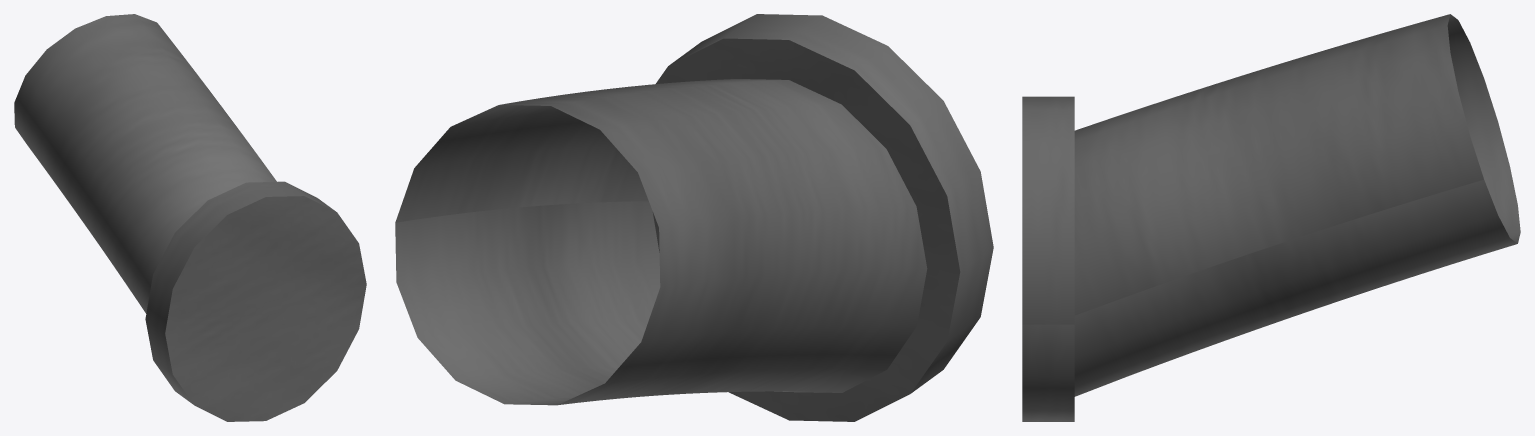
Rendered from mastarmcurve_5x1_c0.obj.
3 views of the same model, side by side, from view 1: azimuth 30°, elevation 25°; view 2: azimuth 150°, elevation 25°; view 3: azimuth 270°, elevation 25° (orthographic). The views are drawn at different scales.
Parts seen in each view (by area): view 1: mastarm_5x1_c0; view 2: mastarm_5x1_c0; view 3: mastarm_5x1_c0.
Boxes of the visible parts, <box> form: mastarm_5x1_c0: <box>14,14,366,421</box>; mastarm_5x1_c0: <box>395,14,993,421</box>; mastarm_5x1_c0: <box>1022,14,1520,421</box>.
Size of the model in its own units: 0.775 by 1.06 by 1.25.
